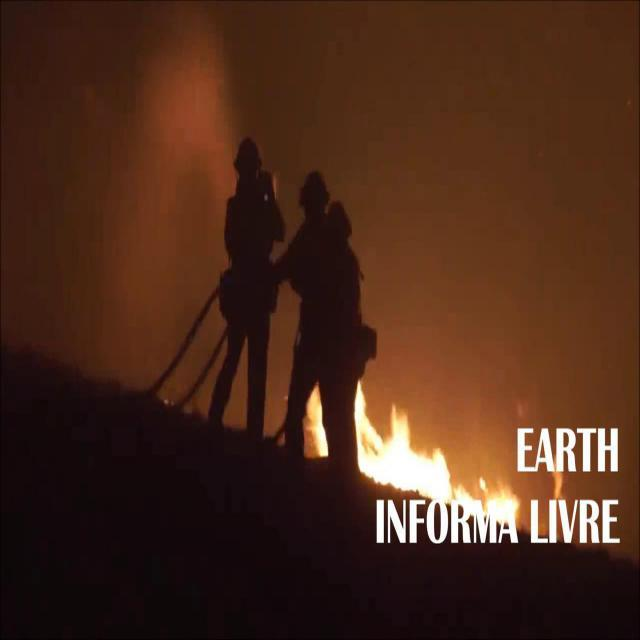Fire: (352, 372, 518, 522), (306, 394, 332, 458), (553, 460, 565, 500)
